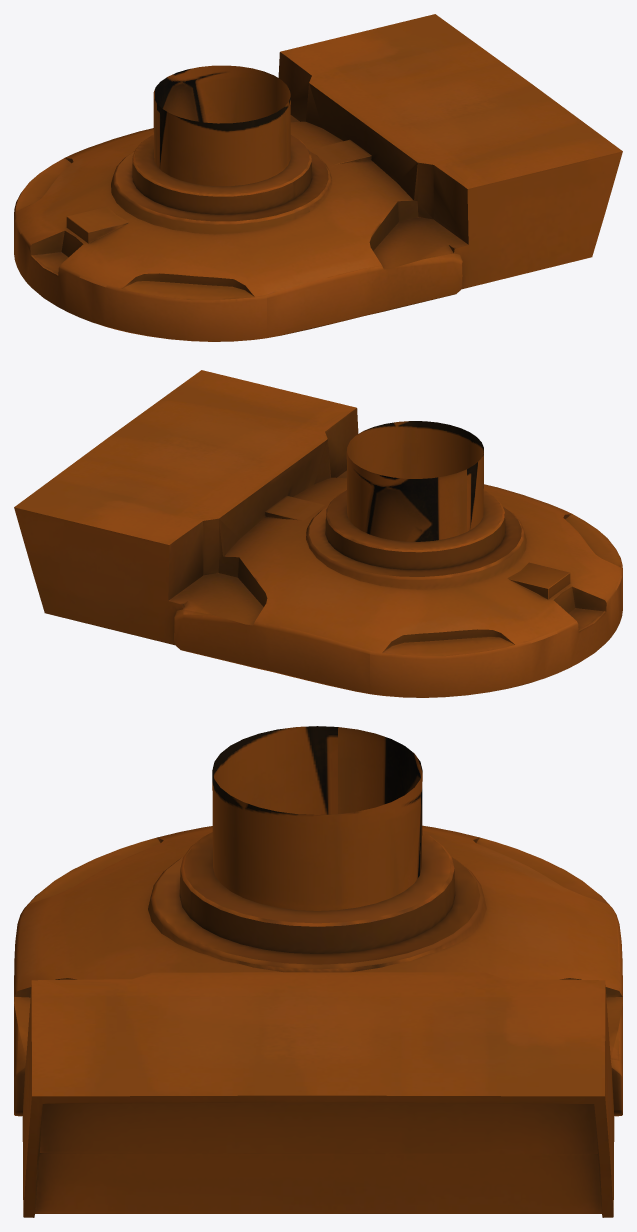
The model's file is RobotArm_Base.glb.
3 views of the same model, one above another, from view 1: azimuth 30°, elevation 25°; view 2: azimuth 150°, elevation 25°; view 3: azimuth 270°, elevation 25° (orthographic). The views are drawn at different scales.
Parts seen in each view (by area): view 1: RobotArmBase; view 2: RobotArmBase; view 3: RobotArmBase.
Boxes of the visible parts, x1,y1,x2,y2 form: RobotArmBase: (14, 14, 622, 341); RobotArmBase: (14, 370, 622, 697); RobotArmBase: (14, 726, 622, 1217).
Size of the model in its own units: 1.14 by 0.3609 by 0.8112.
1 material, 1 textured.
